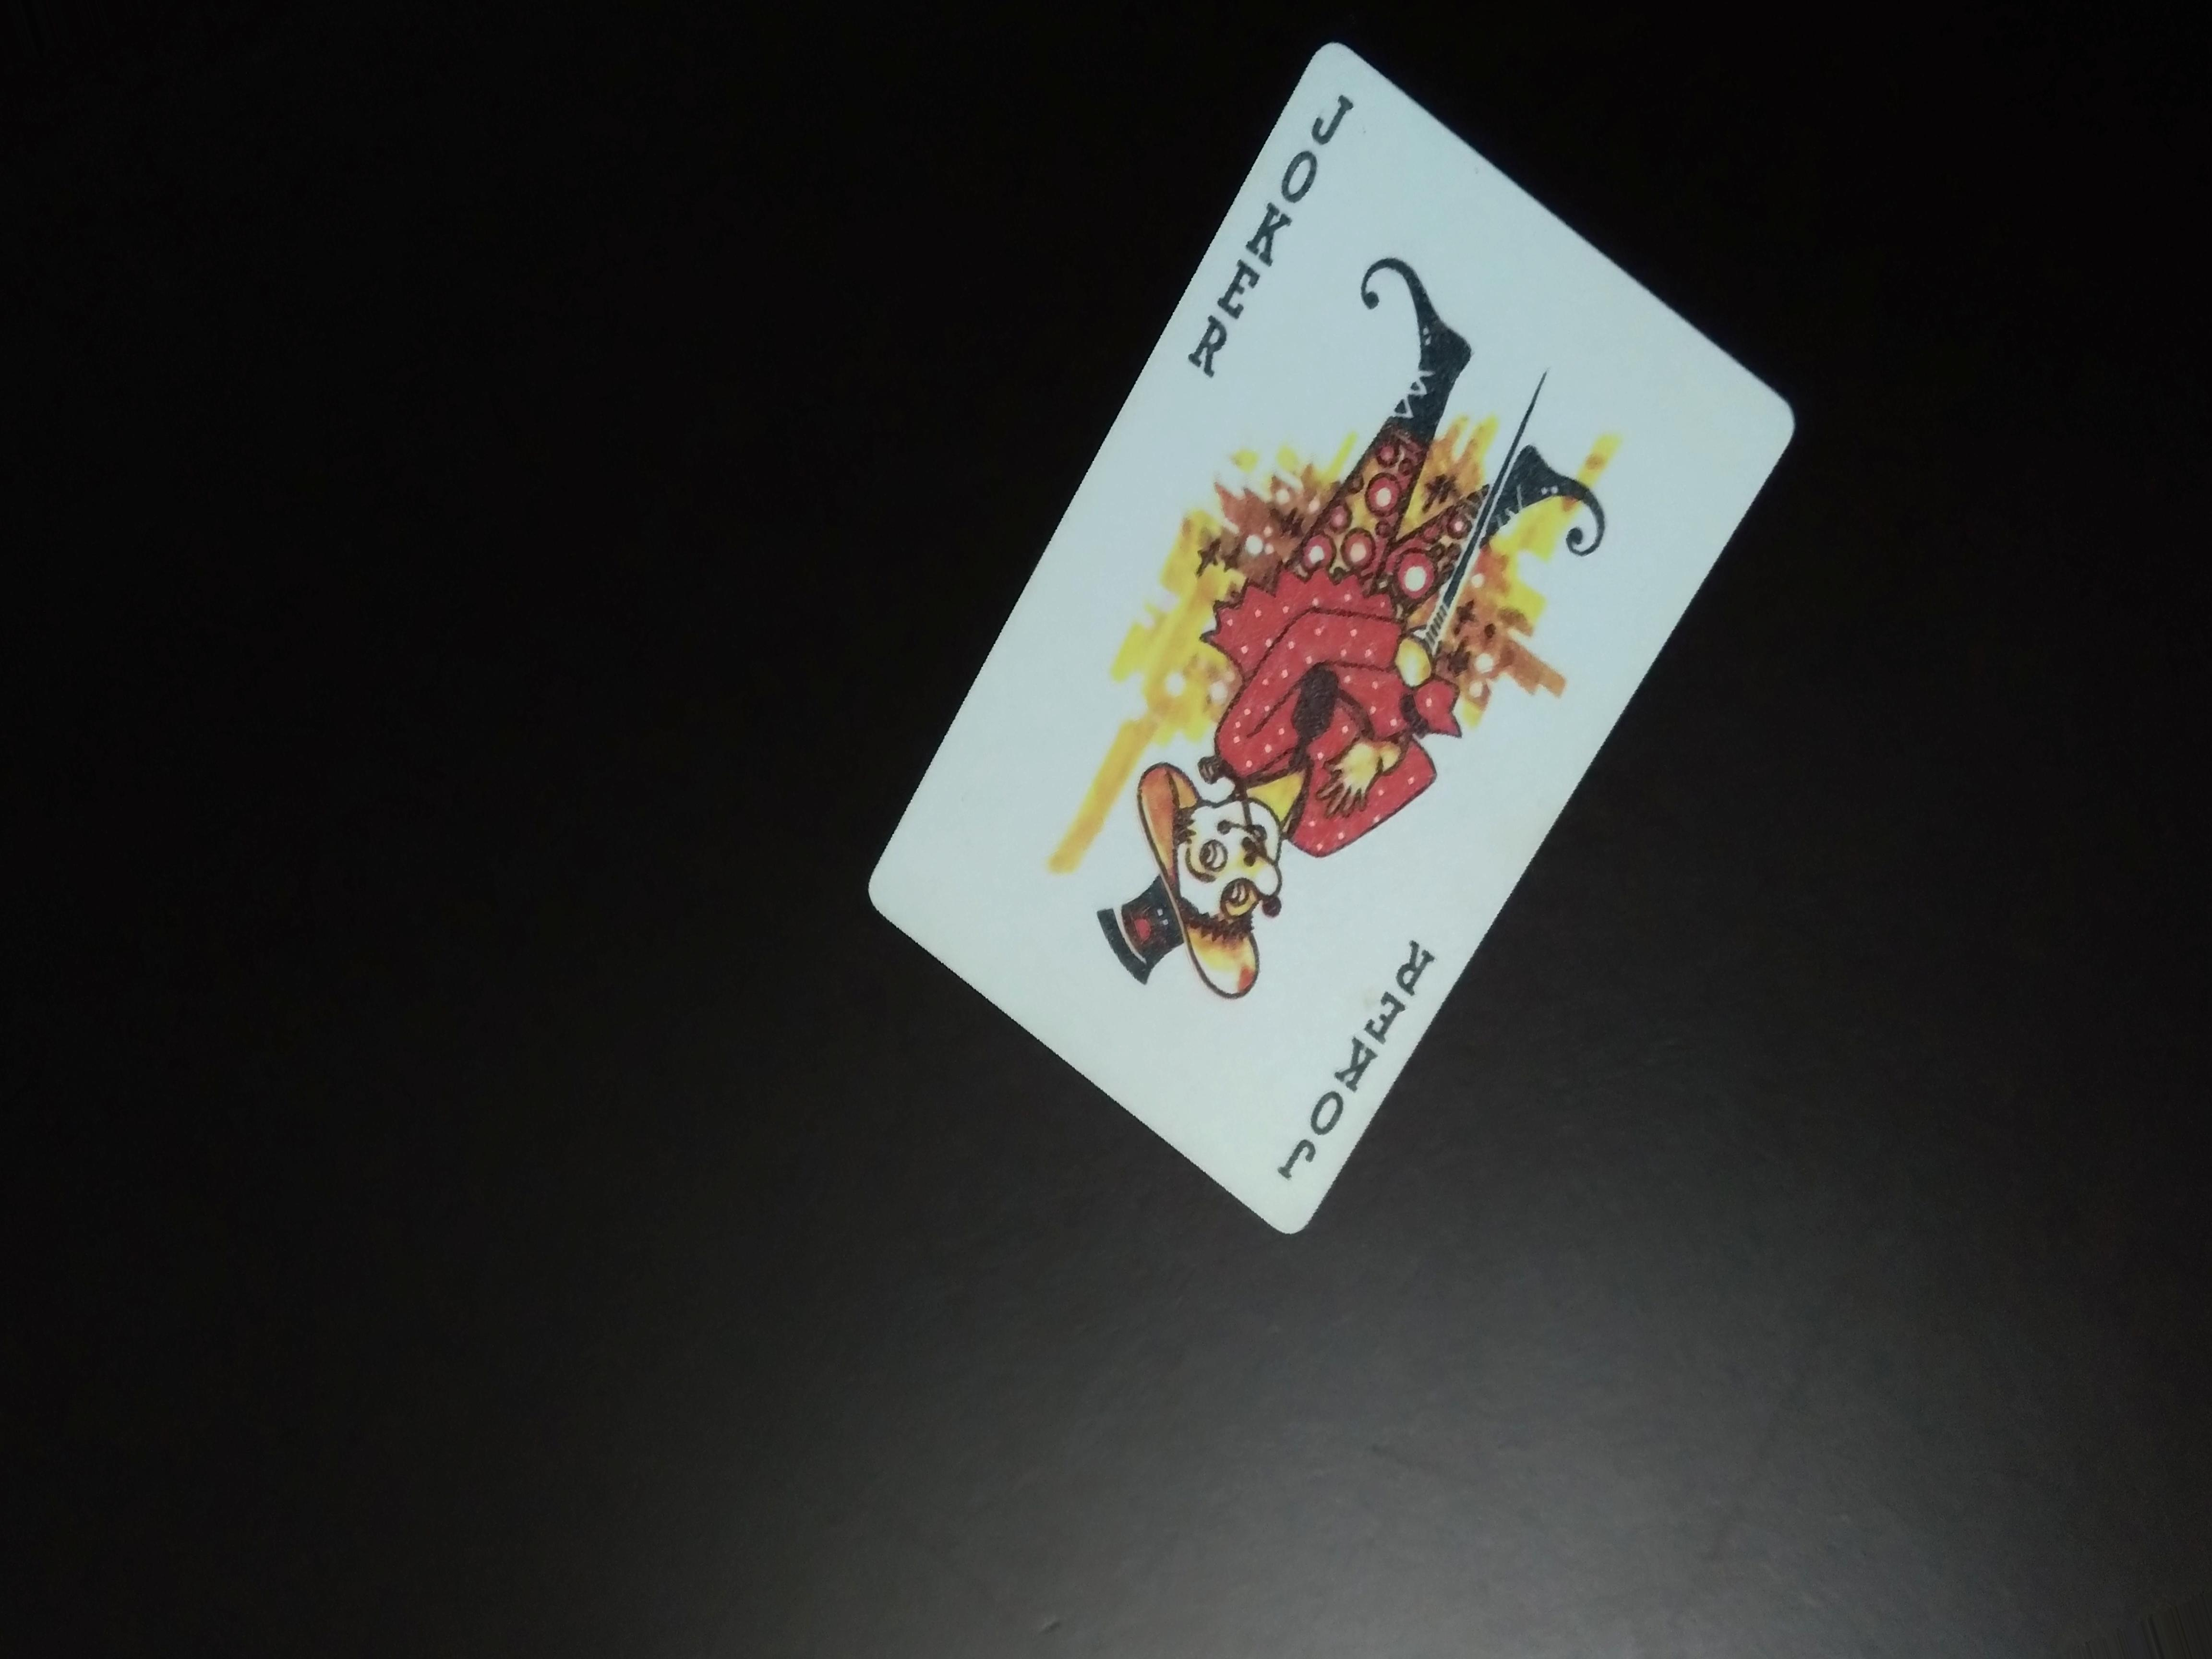JOKER: (1183, 73, 1352, 387)
